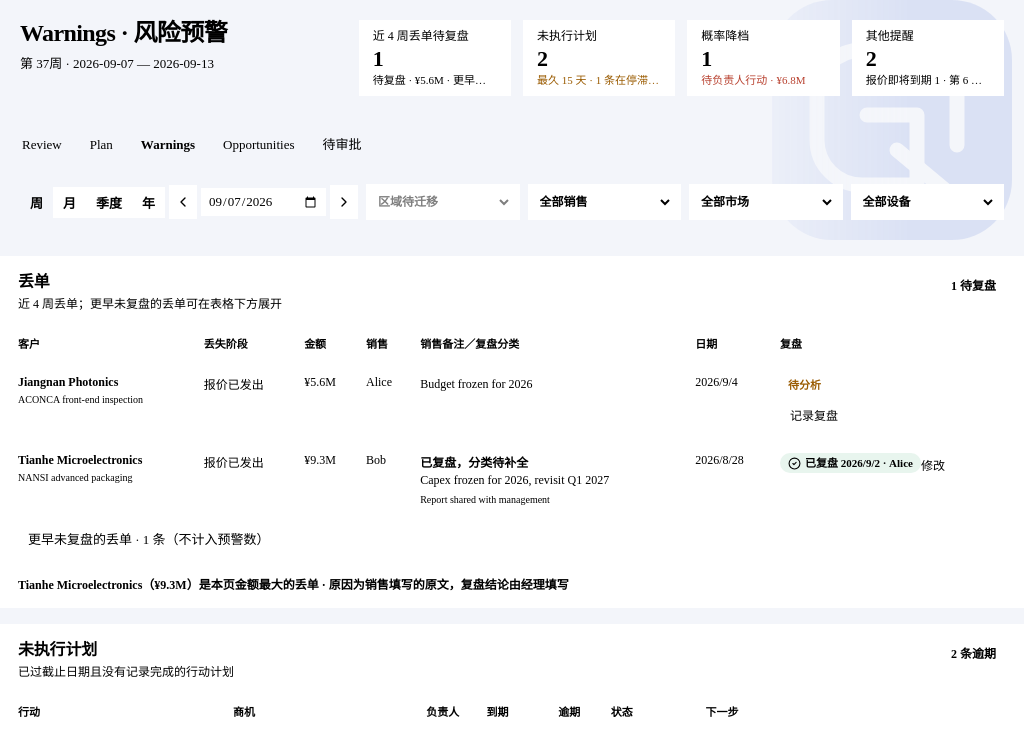
it: Warnings page › does not describe missing action history as no overdue actions
Select "Frontend" in the dropdown named "Market" at x=766, y=202, box top-left (697, 191), bottom-right (834, 213)
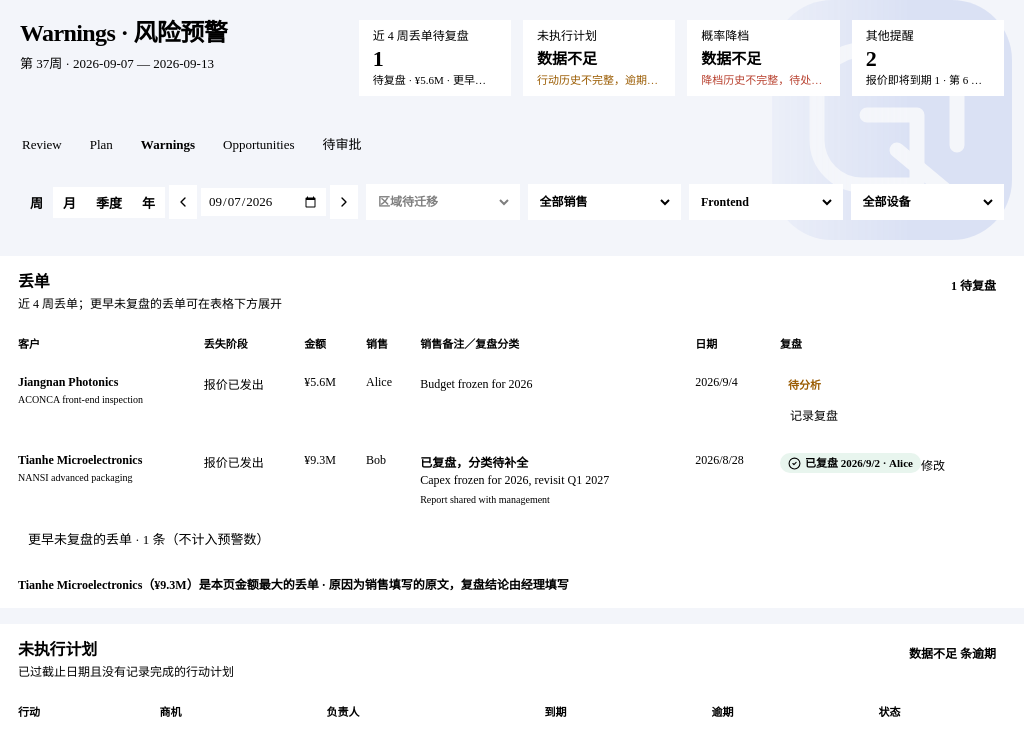
expect the element with class "overdue" shows "逾期总数待核验": met, box top-left (537, 74), bottom-right (702, 86)
Select "All" in the dropdown named "Market" at x=766, y=202, box top-left (697, 191), bottom-right (834, 213)
(page scrolled)
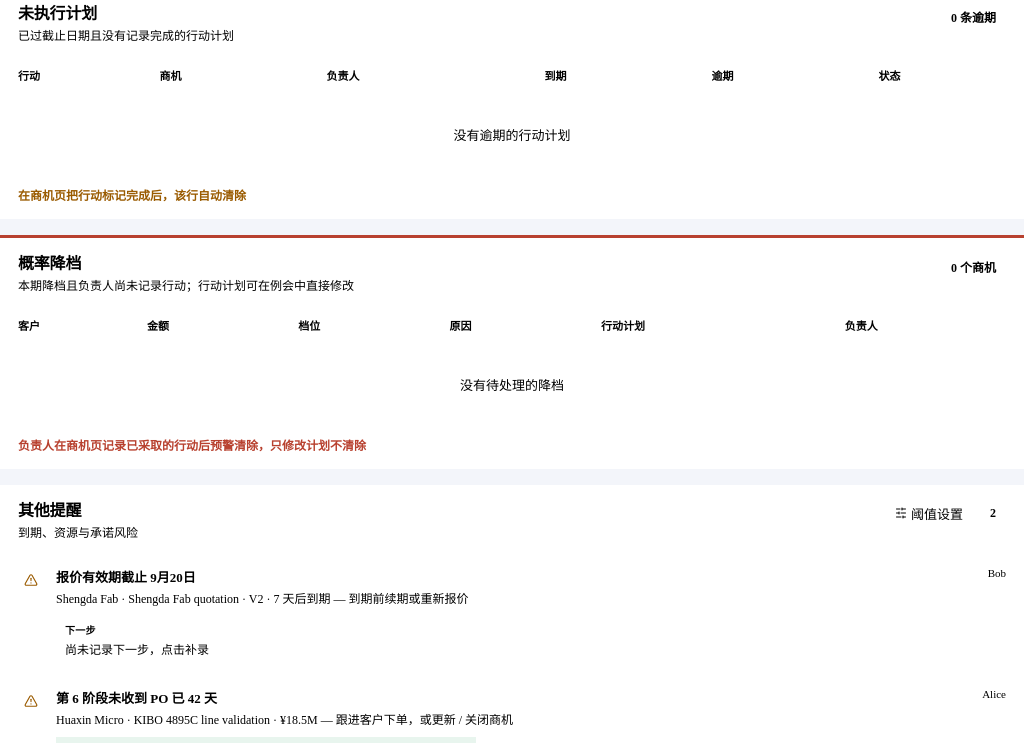
expect the text with class "empty-list" reads "没有逾期的行动计划": met, box top-left (454, 128), bottom-right (570, 143)
expect the text with class "empty-list" reads "没有待处理的降档": met, box top-left (460, 378), bottom-right (564, 393)
